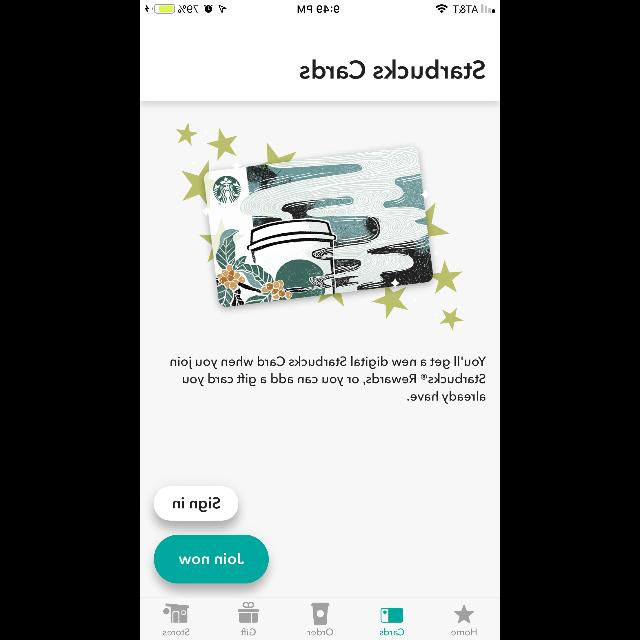icon: (238, 602, 258, 622), (454, 604, 474, 624), (381, 608, 404, 622)
image: (176, 123, 464, 331), (163, 604, 189, 622), (311, 602, 329, 626)
text: (170, 356, 486, 404), (299, 60, 485, 80), (163, 628, 189, 636), (307, 628, 333, 636), (380, 628, 404, 636), (452, 628, 476, 636), (240, 628, 256, 636)
textbutton: (154, 534, 268, 584), (154, 486, 238, 522)
uppertaskbar: (140, 0, 500, 14)
